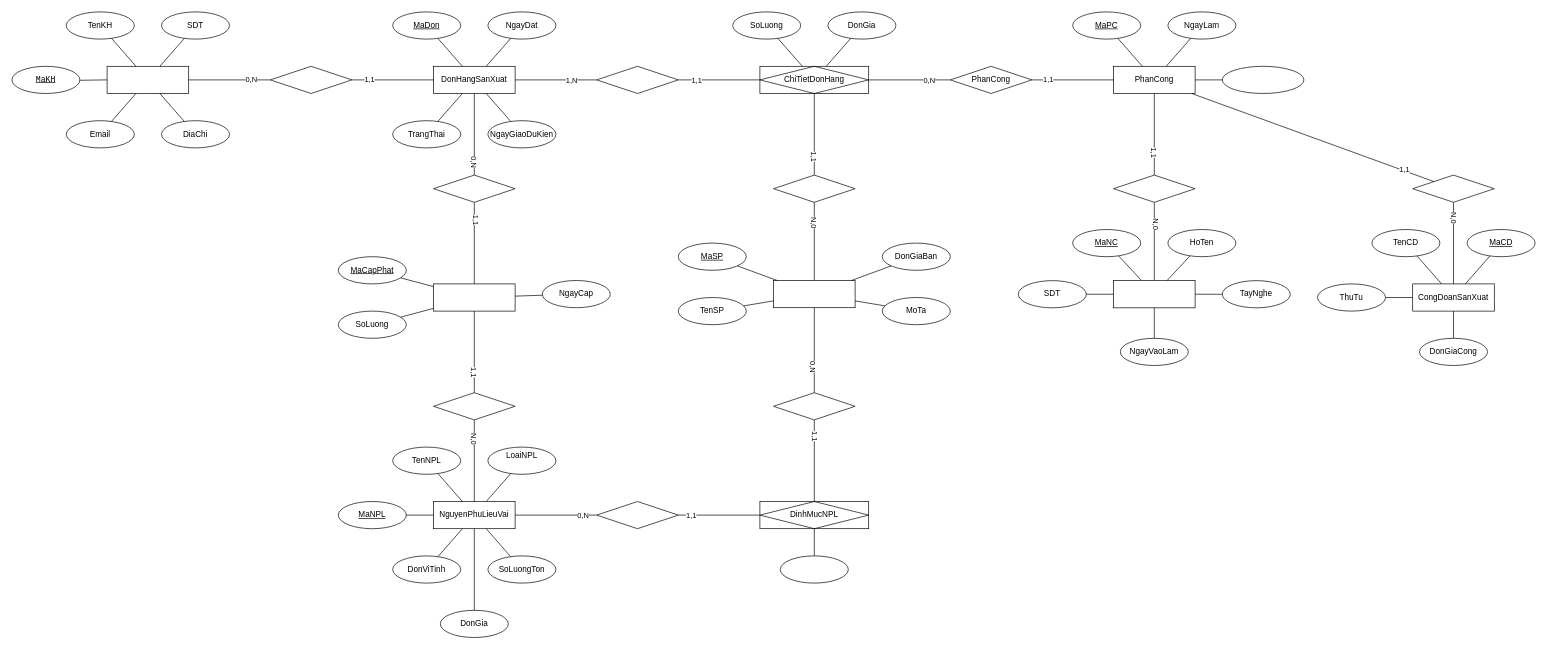
The diagram is 1547 pixels wide and 649 high, and some of its shapes have lost their labels. The centre of each missing label's shape, as x and y in pixels:
CapCho: the point at 474,188
CapPhatNPL: the point at 474,297
Co: the point at 637,80
CoDinhMuc: the point at 814,406
DatHang: the point at 311,80
DuocDat: the point at 814,188
GiaoCho: the point at 1154,188
Gom: the point at 474,406
KhachHangDatMay: the point at 147,80
NhanCongMay: the point at 1154,294
SanPhamMay: the point at 814,294
SoLuongDinhMuc: the point at 814,569
SoLuongHoanThanh: the point at 1263,80
SuDung: the point at 637,515
Thuoc: the point at 1453,188
